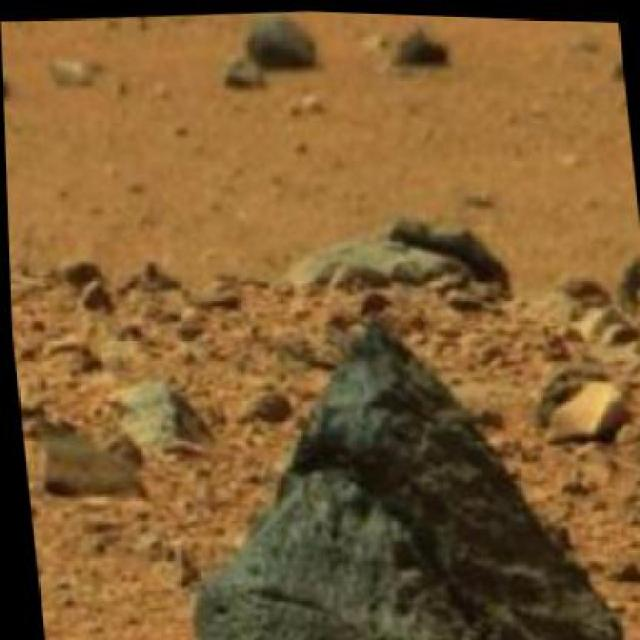rock: (163, 294, 639, 638), (271, 208, 518, 312), (31, 428, 160, 514), (544, 378, 638, 451), (252, 13, 332, 78), (400, 27, 465, 78), (1, 58, 28, 115)
